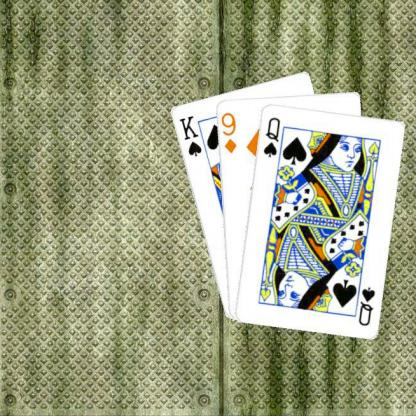9D: (219, 109, 238, 154)
KS: (175, 112, 203, 158)
QS: (260, 114, 281, 158), (355, 284, 376, 327)
